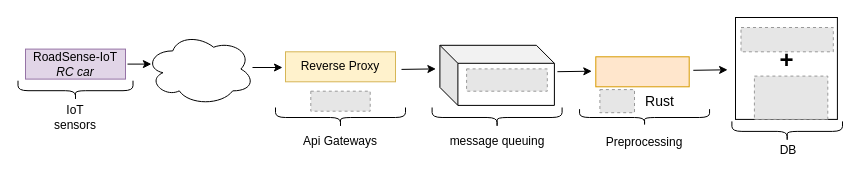
The diagram is 860 pixels wide and 180 high, and some of its shapes have lost their labels. Grey dashed boxes stand in for pictures. Here are the shapes that lost their labels. From the top down, the centre of each, then its label:
At pixel 199 68: "Local network".
At pixel 642 71: "Consumer".
